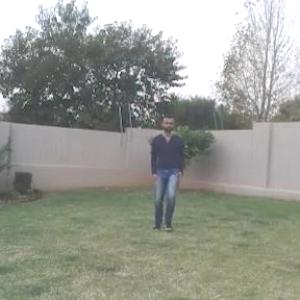follow: (148, 106, 186, 236)
